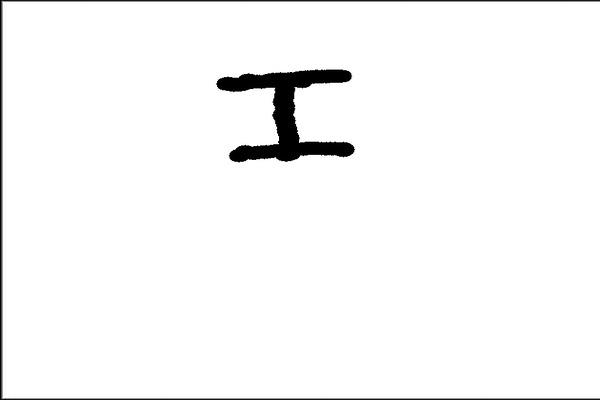i: (207, 55, 364, 165)
